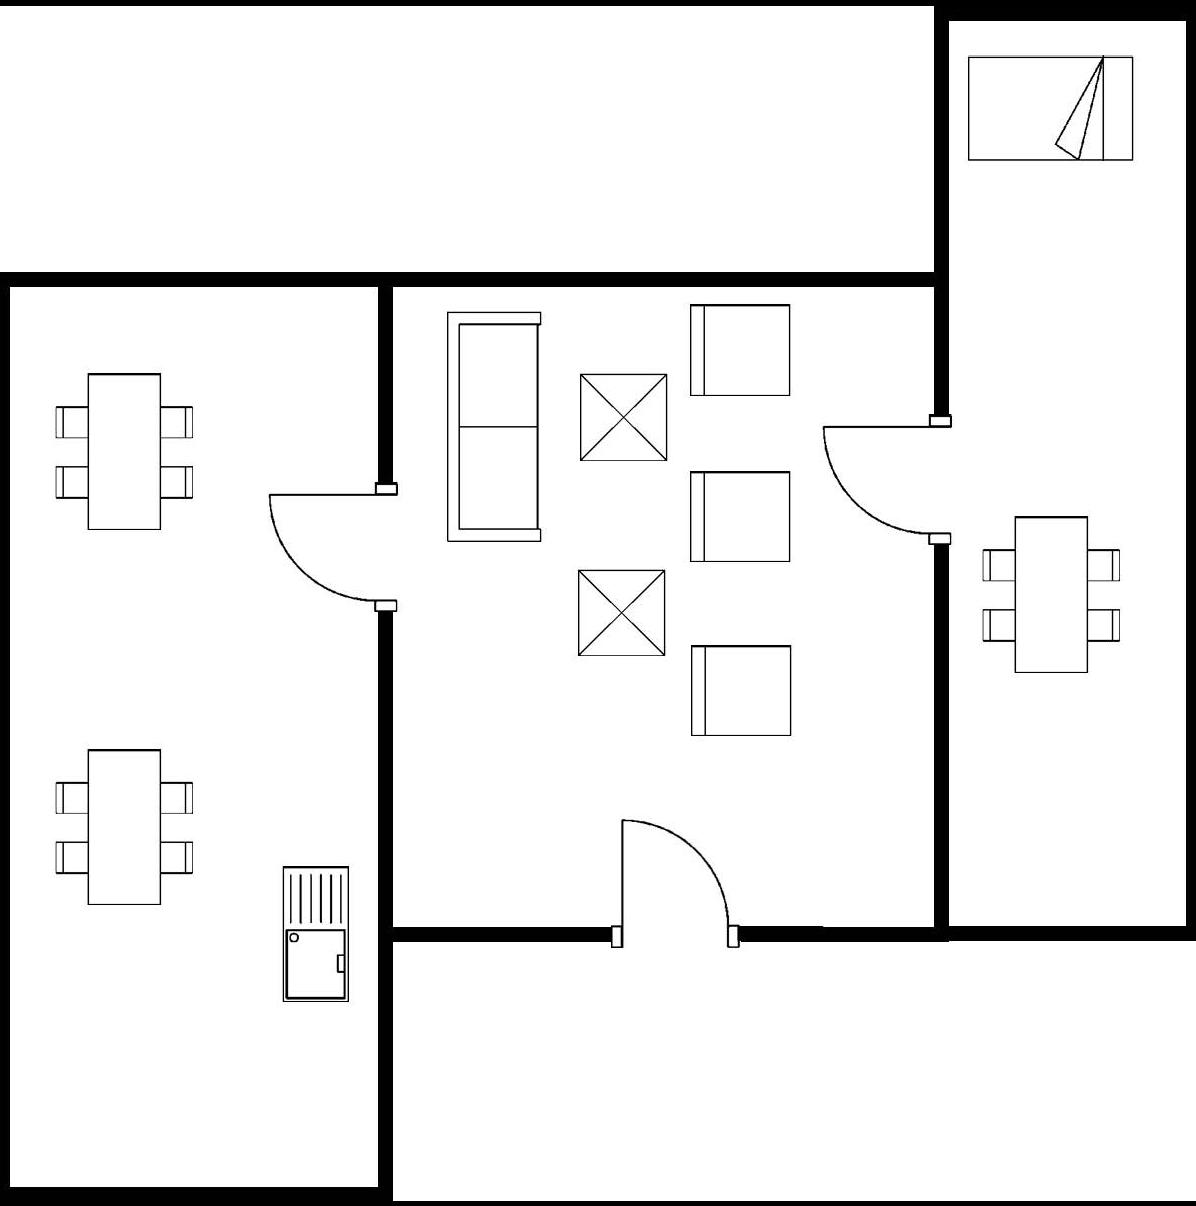dining_table: (44, 736, 198, 917), (977, 504, 1129, 681), (47, 365, 202, 537)
sink: (273, 855, 355, 1006)
sofa: (436, 298, 551, 551)
